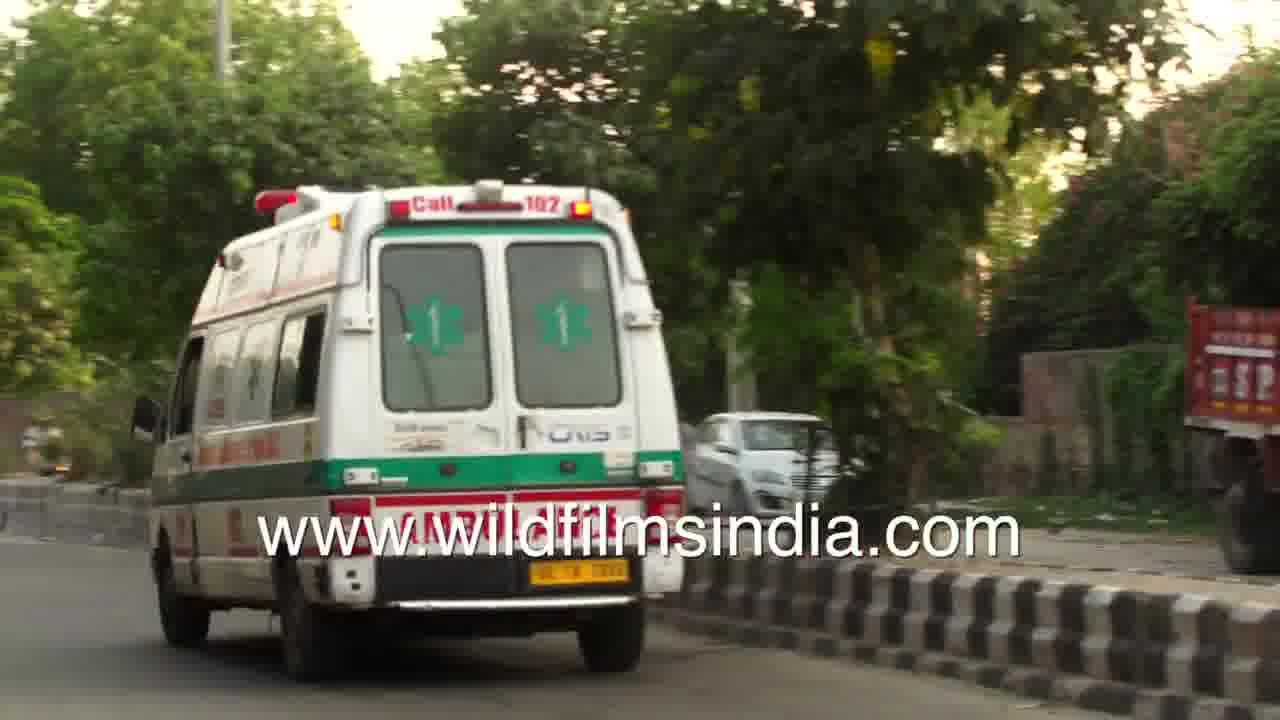AMBULANCE: (127, 168, 716, 520)
